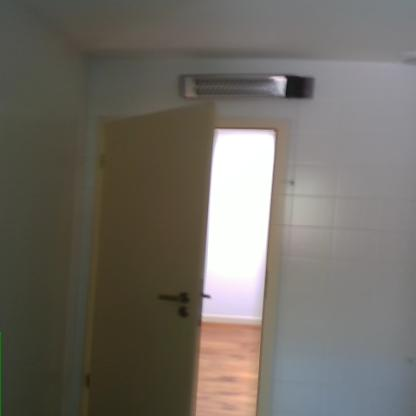semi: (78, 98, 287, 416)
